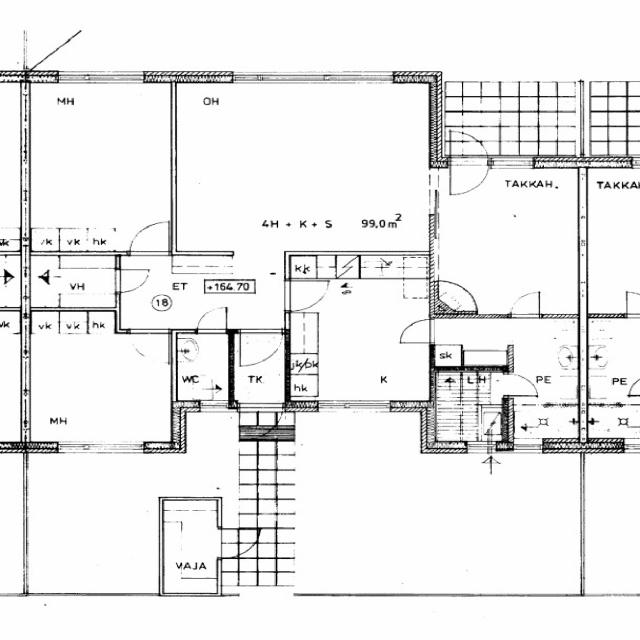door: (240, 401, 282, 446), (450, 126, 488, 168), (450, 157, 488, 198), (241, 329, 282, 366), (130, 220, 168, 256), (285, 280, 328, 311), (130, 329, 168, 364), (217, 528, 258, 558), (197, 306, 226, 334), (502, 374, 540, 395), (400, 320, 436, 342), (115, 270, 148, 292), (511, 292, 538, 318)
